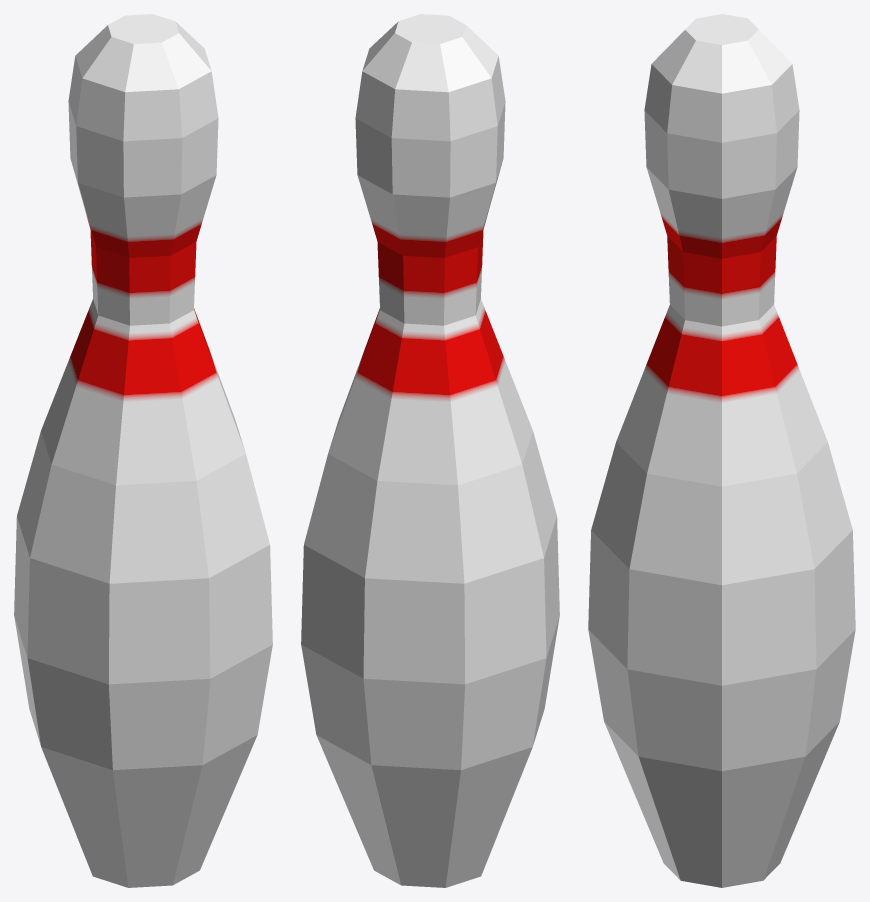
The model's file is Bowling Pin.fbx.
3 renders of one model, left to right at view 1: azimuth 30°, elevation 25°; view 2: azimuth 150°, elevation 25°; view 3: azimuth 270°, elevation 25°, orthographic.
Visible parts, largest first — view 1: Cylinder; view 2: Cylinder; view 3: Cylinder.
Part boxes in pixels (x1,y1,x2,y2): Cylinder: (14,14,272,887); Cylinder: (301,14,559,887); Cylinder: (588,14,855,887).
Size of the model in its own units: 11.62 by 39.97 by 11.62.
